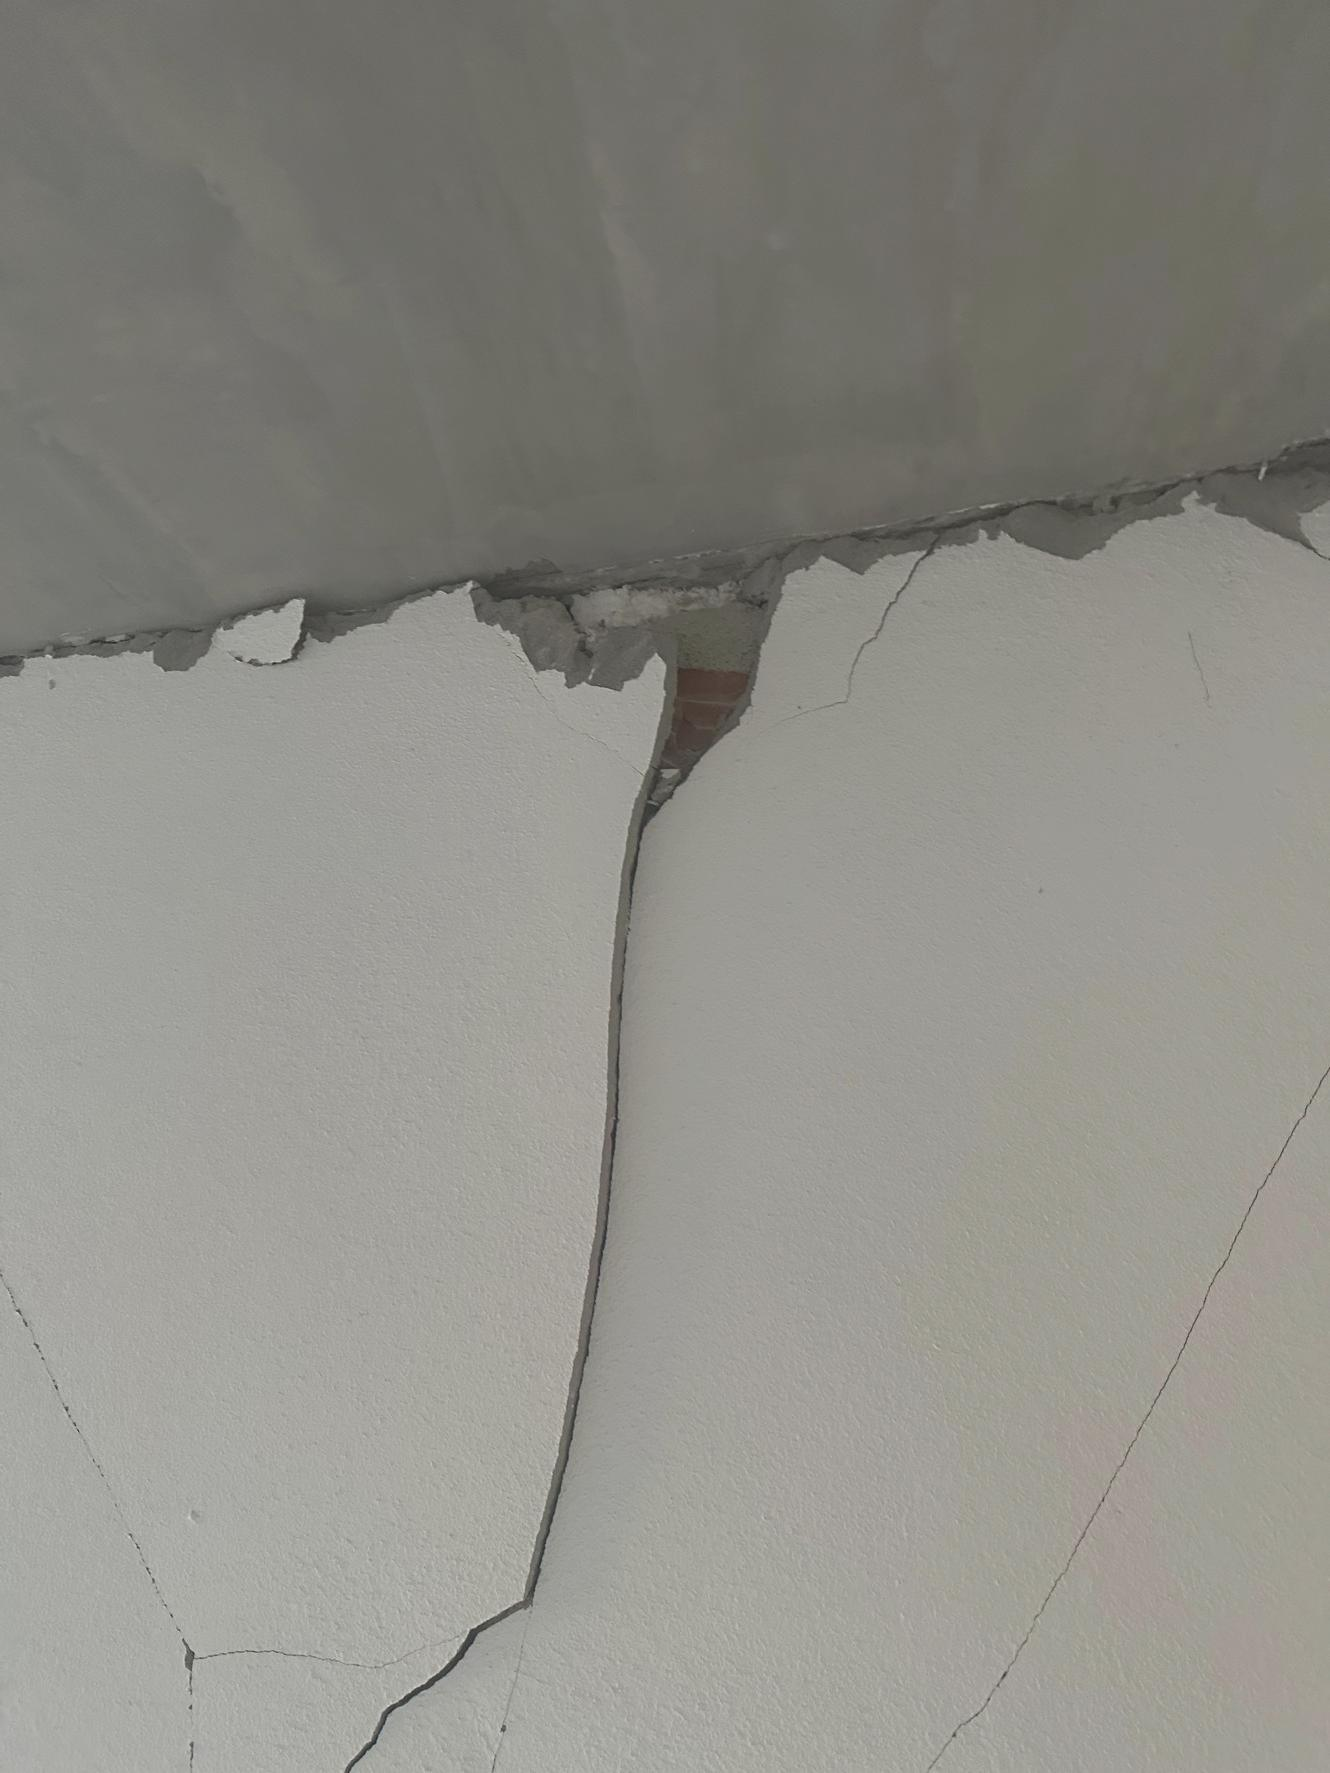High: (13, 415, 1327, 1773)
